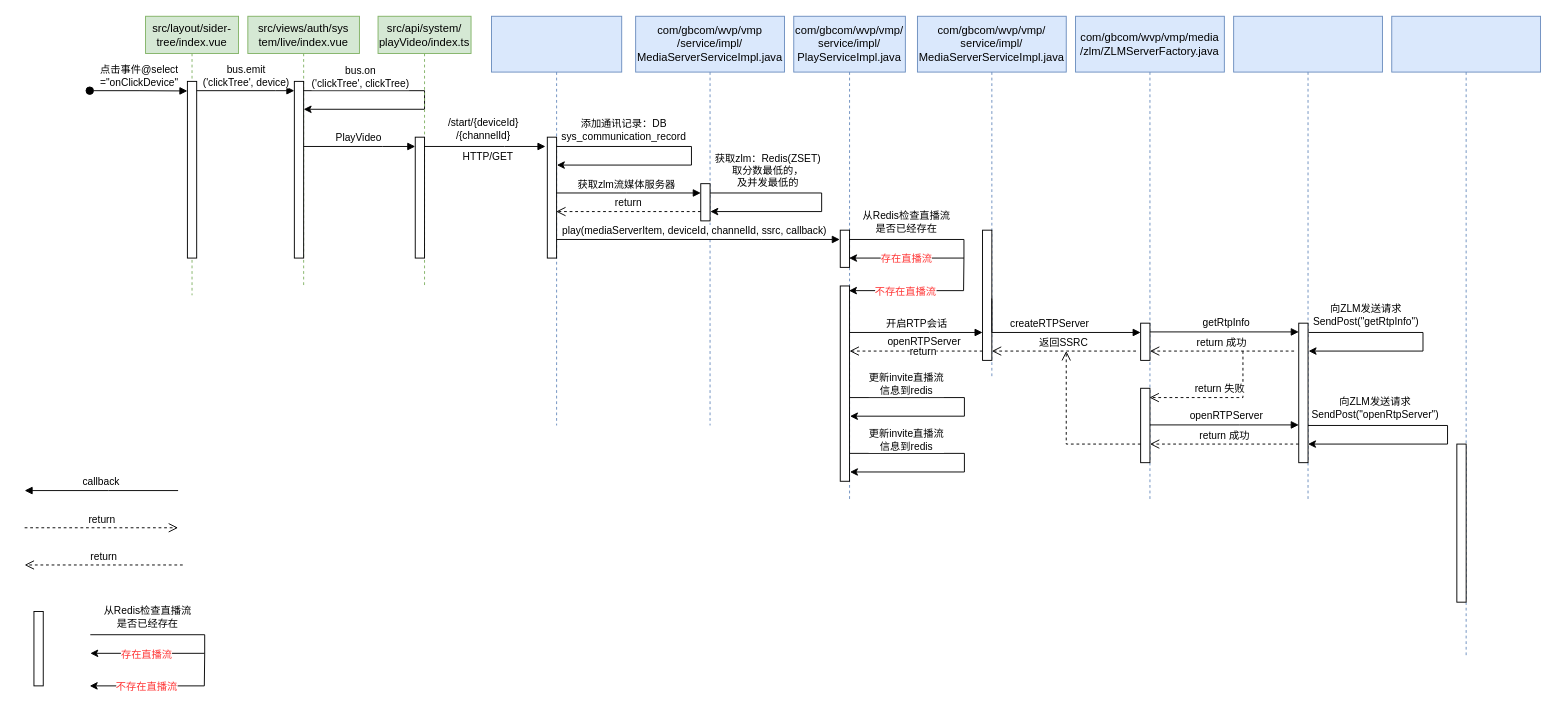
This 1557x710 diagram has some shape labels left out. The shapes that lost their labels are listed below. From the top down, each one's box as (x1, y1, x2, y2) in pixels, then its label:
(491, 15, 622, 425): com/gbcom/wvp/vmp /vmanager/gb28181/ play/PlayController.java
(1233, 15, 1382, 500): com/gbcom/wvp/vmp/media /zlm/ZLMRESTfulUtils.java
(1391, 15, 1541, 658): com/gbcom/wvp/vmp /gb28181/transmit/cmd/impl /SIPCommander.java
